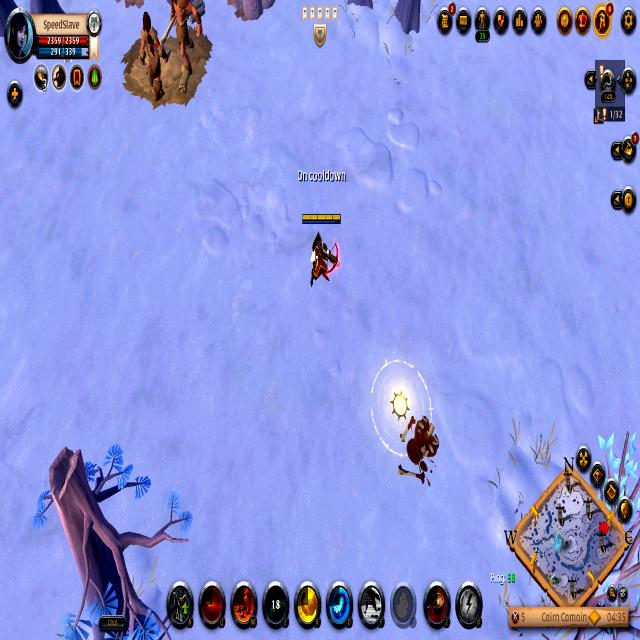ore: (161, 0, 205, 89), (134, 6, 170, 106)
red: (300, 212, 344, 294)
